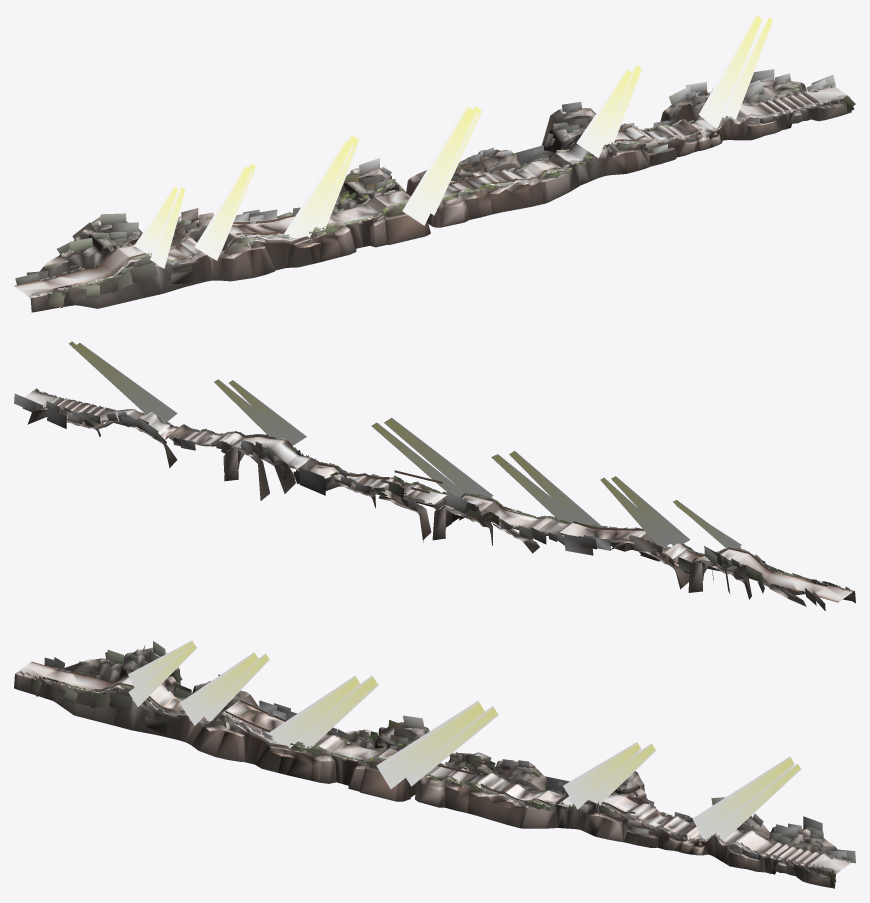
Rendered from Forest_06.fbx.
The picture shows the model from 3 angles, top to bottom: view 1: azimuth 30°, elevation 25°; view 2: azimuth 150°, elevation 25°; view 3: azimuth 330°, elevation 25°; orthographic projection.
Parts seen in each view (by area): view 1: Mountain_01, Light_01, Tree_01, Ground_01, Leak_01; view 2: Light_01, Tree_01, Ground_01, Mountain_01, Leak_01; view 3: Mountain_01, Light_01, Tree_01, Ground_01, Leak_01.
Part boxes in pixels (bbox=[...]): Mountain_01: bbox=[29, 80, 851, 312]; Light_01: bbox=[134, 15, 773, 268]; Tree_01: bbox=[15, 69, 855, 307]; Ground_01: bbox=[14, 86, 846, 296]; Leak_01: bbox=[105, 125, 645, 276]; Light_01: bbox=[69, 341, 741, 548]; Tree_01: bbox=[14, 388, 849, 610]; Ground_01: bbox=[24, 391, 853, 602]; Mountain_01: bbox=[27, 390, 855, 606]; Leak_01: bbox=[221, 431, 775, 573]; Mountain_01: bbox=[14, 647, 837, 888]; Light_01: bbox=[128, 640, 801, 840]; Tree_01: bbox=[20, 641, 855, 886]; Ground_01: bbox=[17, 661, 852, 872]; Leak_01: bbox=[94, 682, 648, 813].
Bounding box in the file's own units: 45557 × 5923 × 5159.
